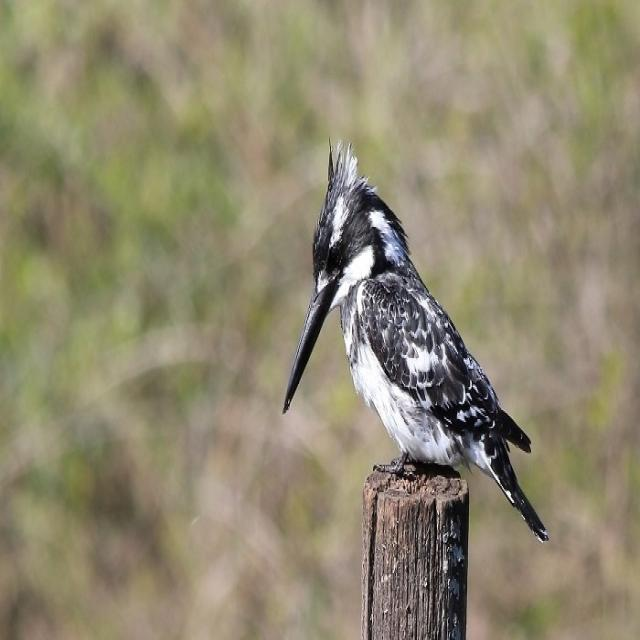kingfisher: (271, 136, 561, 562)
